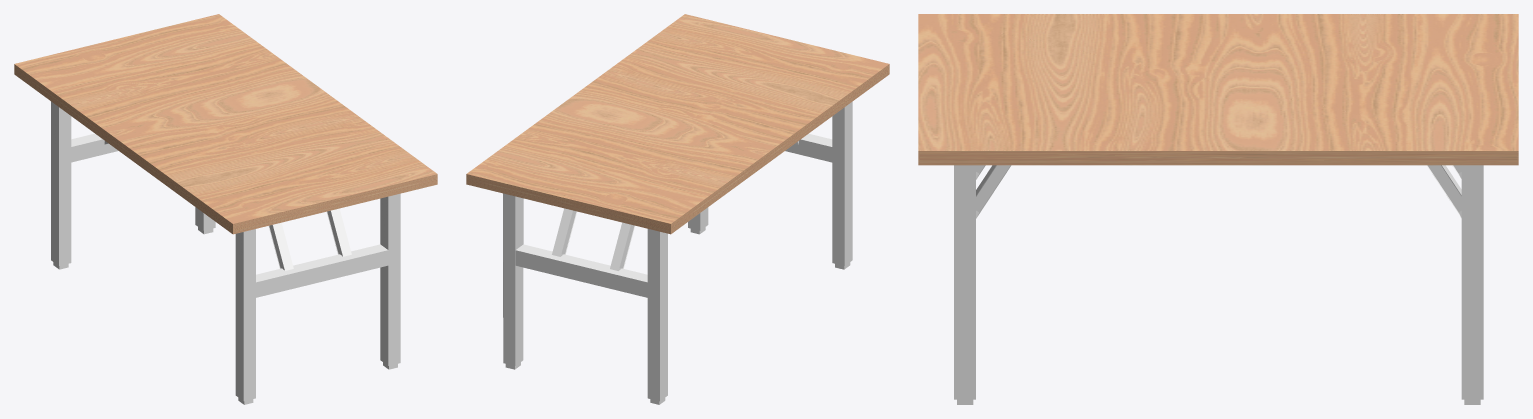
Rendered from table2_ver2.glb.
The picture shows the model from 3 angles, left to right: view 1: azimuth 30°, elevation 25°; view 2: azimuth 150°, elevation 25°; view 3: azimuth 270°, elevation 25°; orthographic projection. The views are drawn at different scales.
Visible parts, largest first — view 1: Cube.001, Cube.002, Cube.003, Cube.006; view 2: Cube.001, Cube.002, Cube.003, Cube.005; view 3: Cube.001, Cube.002, Cube.006, Cube.005.
Part boxes in pixels (x1,y1,x2,y2): Cube.001: (14,14,437,234); Cube.002: (51,101,400,404); Cube.003: (71,133,388,297); Cube.006: (268,208,351,270); Cube.001: (466,14,889,234); Cube.002: (503,101,852,404); Cube.003: (515,133,832,297); Cube.005: (552,208,634,270); Cube.001: (918,14,1518,165); Cube.002: (954,165,1483,404); Cube.006: (976,165,1011,218); Cube.005: (1427,165,1461,217).
Size of the model in its own units: 0.7054 by 0.6499 by 1.31.
2 materials, 1 textured.
